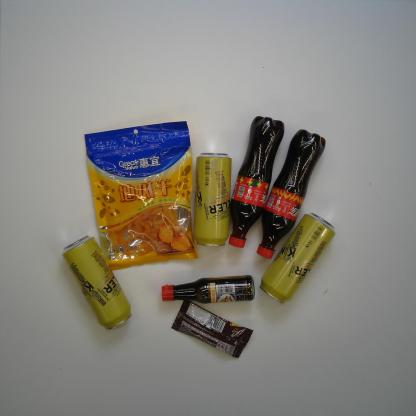Alcohol: (258, 211, 337, 306), (61, 235, 132, 330), (194, 152, 234, 249)
Chocolate: (170, 300, 254, 358)
Dried Fruit: (84, 120, 200, 272)
Drink: (255, 127, 327, 261), (226, 115, 286, 249)
Seasoner: (160, 273, 256, 304)
